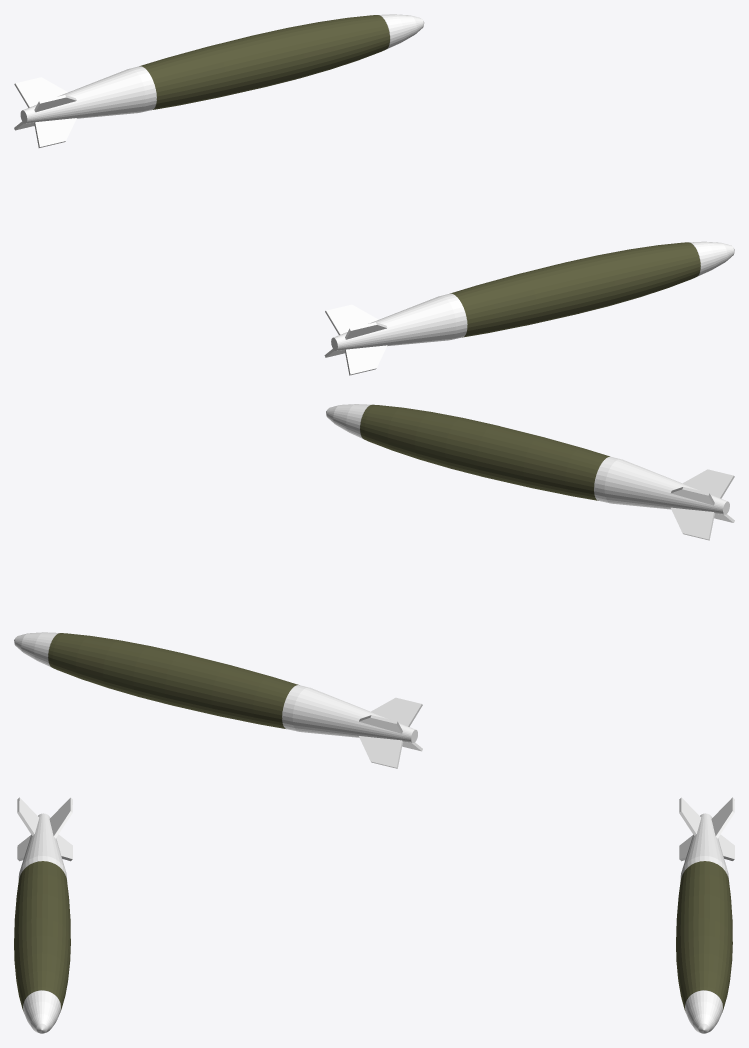
File: f15egbu38310.glb
3 renders of one model, top to bottom at view 1: azimuth 30°, elevation 25°; view 2: azimuth 150°, elevation 25°; view 3: azimuth 270°, elevation 25°, orthographic. The views are drawn at different scales.
Parts seen in each view (by area): view 1: 円柱.009, 円柱.006; view 2: 円柱.009, 円柱.006; view 3: 円柱.006, 円柱.009.
Boxes of the visible parts, box(x1,y1,x2,y2) form: 円柱.009: box(14, 14, 424, 147); 円柱.006: box(324, 241, 734, 375); 円柱.009: box(14, 632, 422, 768); 円柱.006: box(326, 404, 734, 540); 円柱.006: box(14, 797, 72, 1033); 円柱.009: box(676, 797, 734, 1033).
Bounding box in the file's own units: 2.42 × 0.2816 × 3.54.
3 materials, 1 textured.
